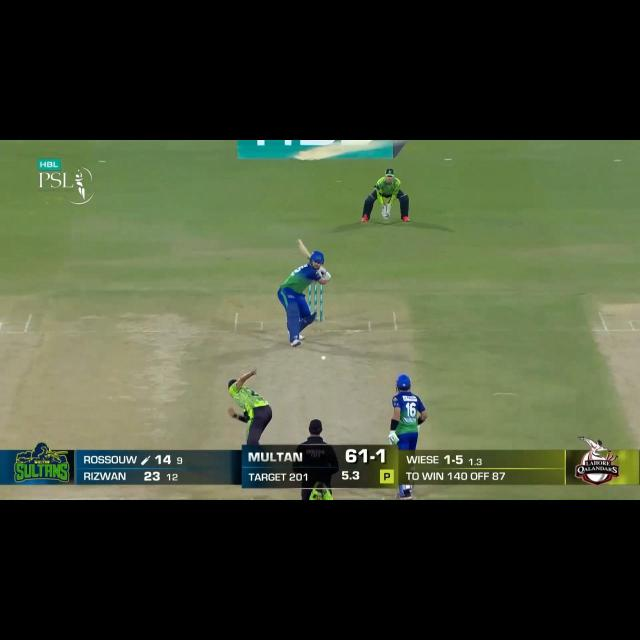bat: (296, 238, 313, 260)
toe: (296, 238, 303, 248)
